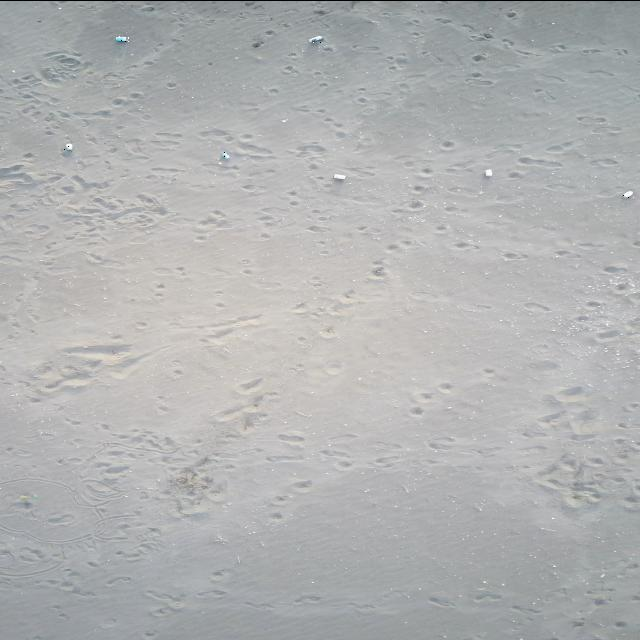Garbage: (307, 35, 323, 43), (115, 35, 127, 42), (333, 173, 344, 179), (220, 151, 227, 159), (64, 143, 71, 151), (484, 168, 491, 176), (623, 190, 632, 196)
